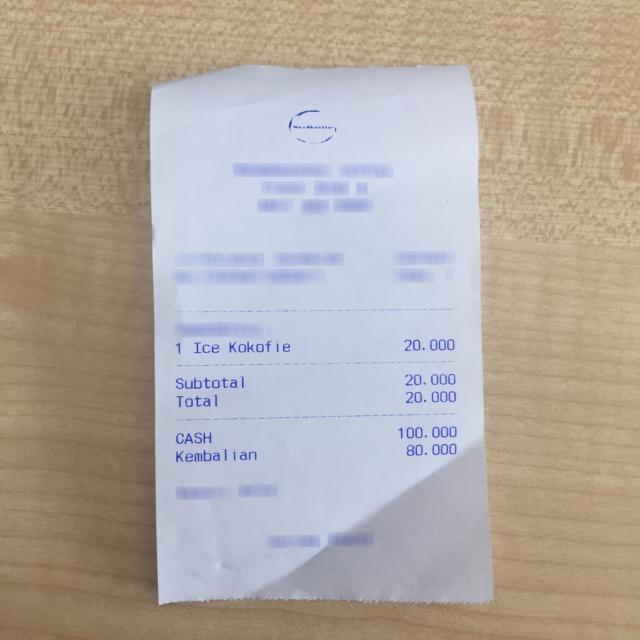kertas: (148, 61, 494, 607)
